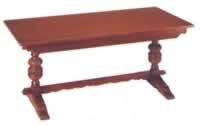obstacle: (4, 7, 191, 119)
